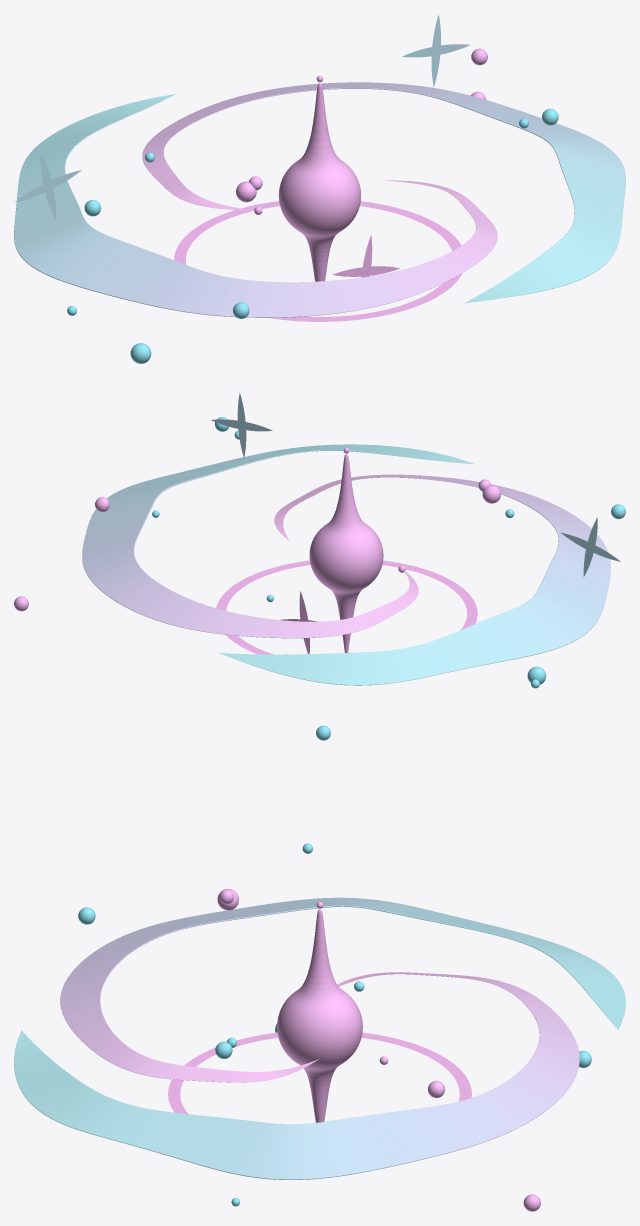
3 renders of one model, top to bottom at view 1: azimuth 30°, elevation 25°; view 2: azimuth 150°, elevation 25°; view 3: azimuth 270°, elevation 25°, orthographic. The views are drawn at different scales.
Visible parts, largest first — view 1: フワフワ, 球, 円, キラキラ.002, キラキラ.001, キラキラ; view 2: フワフワ, 球, 円, キラキラ.002, キラキラ.001; view 3: フワフワ, 球, 円.
Boxes of the visible parts, x1,y1,x2,y2 form: フワフワ: (14,82,625,317); 球: (278,82,361,281); 円: (174,201,462,321); キラキラ.002: (402,14,469,86); キラキラ.001: (15,153,81,219); キラキラ: (332,235,399,277); フワフワ: (82,444,610,685); 球: (309,454,383,652); 円: (216,560,477,654); キラキラ.002: (211,392,272,457); キラキラ.001: (561,517,620,576); フワフワ: (14,897,625,1179); 球: (277,909,362,1122); 円: (168,1032,471,1114).
Bounding box in the file's own units: 16.12 × 7.3 × 14.09.
4 materials, 2 textured.
